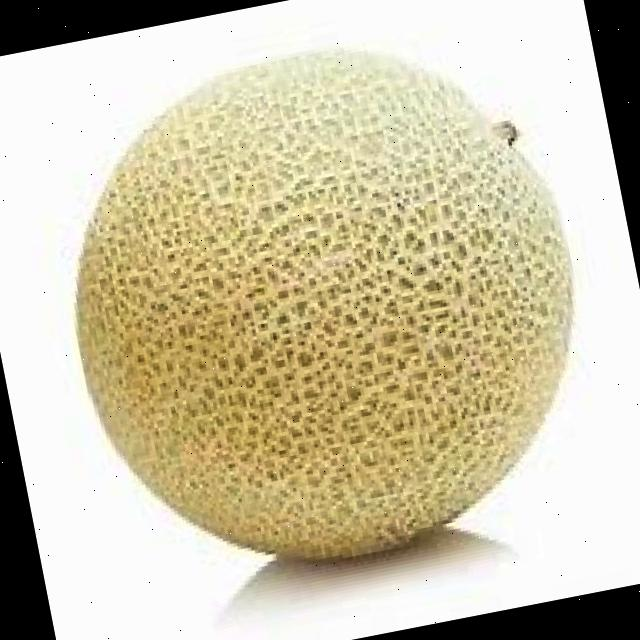Hami Melon: (31, 12, 622, 603)
